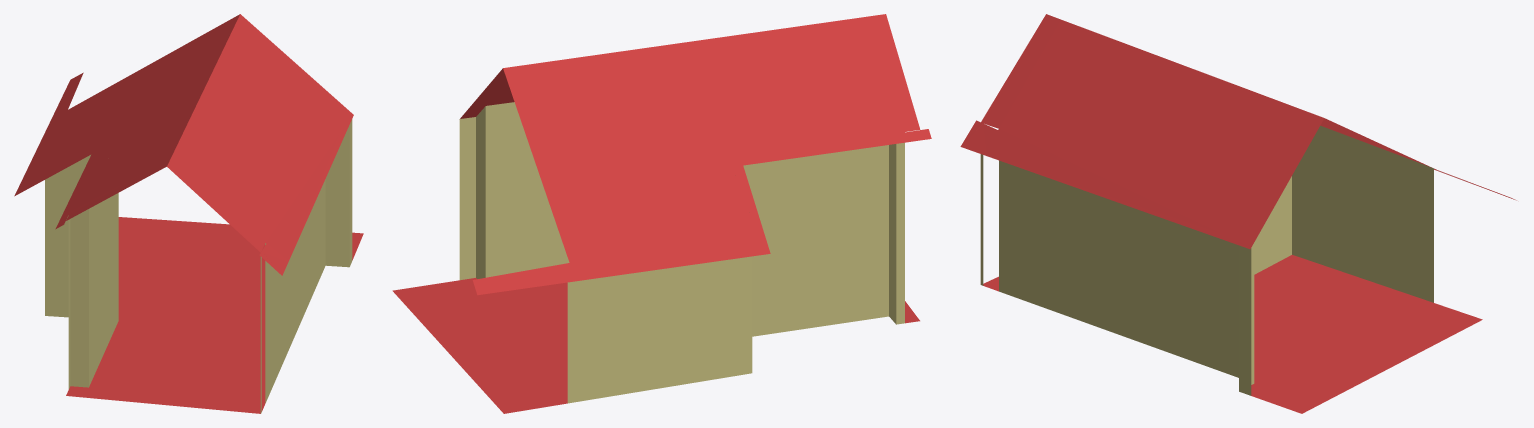
3 renders of one model, left to right at view 1: azimuth 30°, elevation 25°; view 2: azimuth 150°, elevation 25°; view 3: azimuth 270°, elevation 25°, orthographic. The views are drawn at different scales.
Bounding box in the file's own units: 23.45 × 28.12 × 13.35.
